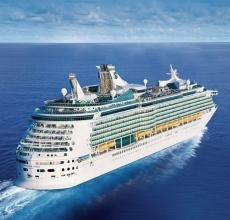youlun: (9, 61, 220, 192)
